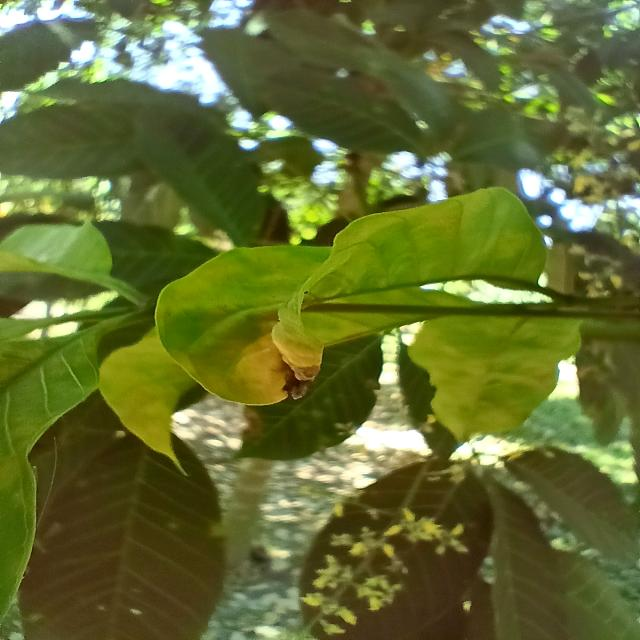Leaf-Blight: (280, 351, 320, 399)
